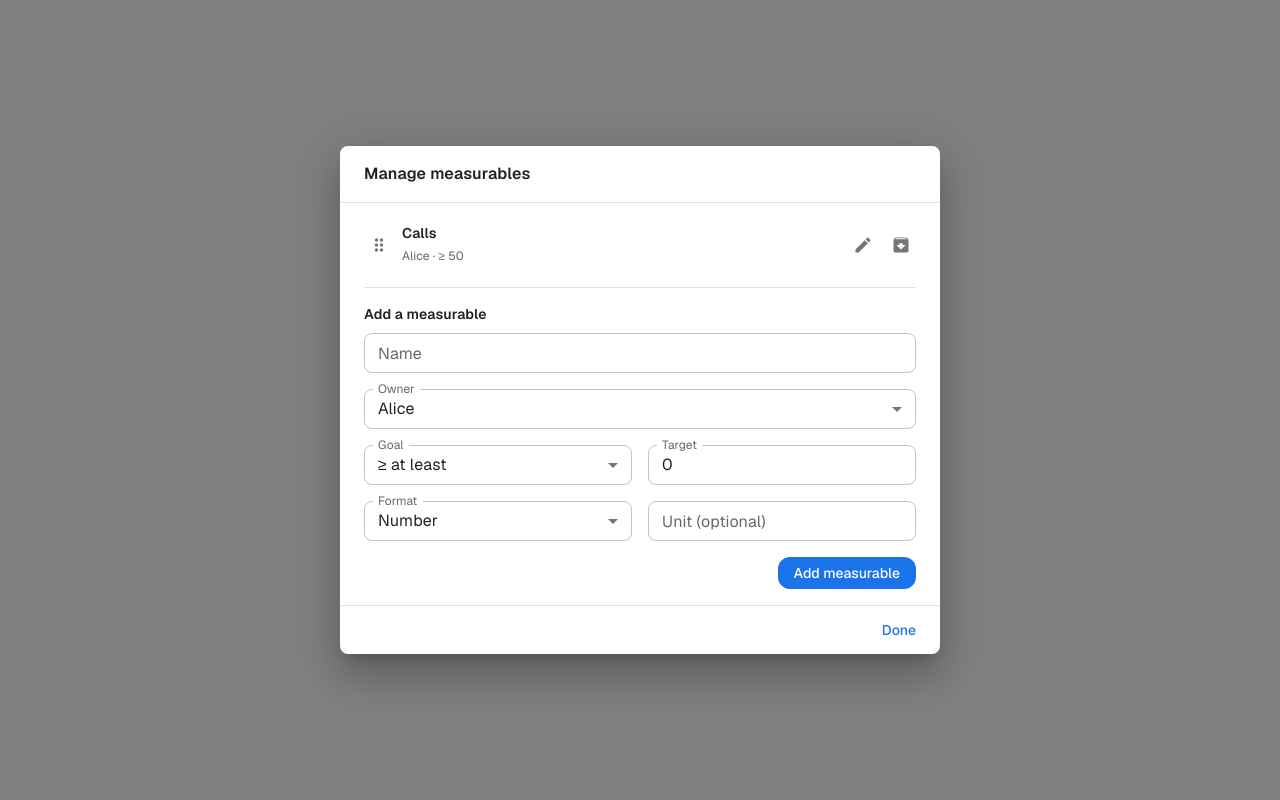
Scenario: ManageMeasurablesDialog › requires an upper bound when the goal is BETWEEN
Step 1. Type "Range" into the field labelled "Name" → [640, 352], box [364,332,916,372]
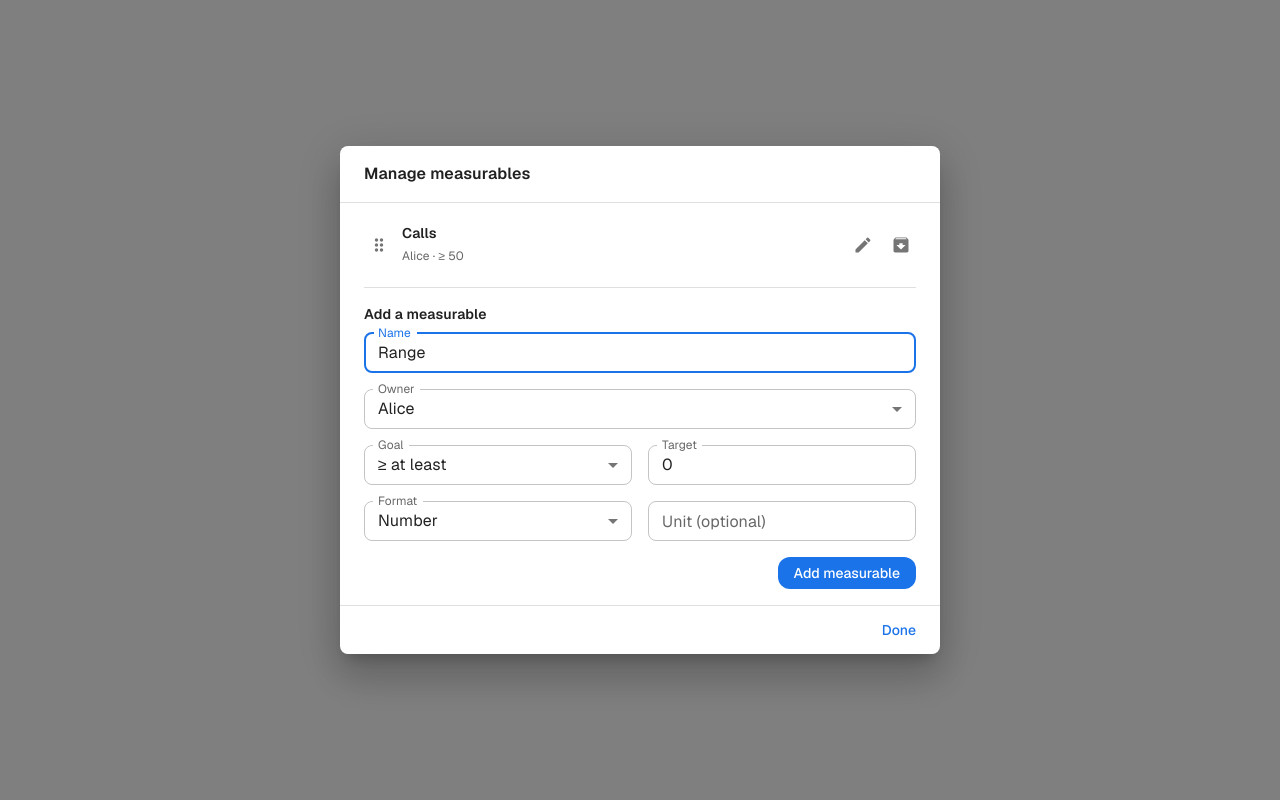
Step 2. Click the dropdown named "Goal" → [412, 464], box [378,454,447,475]
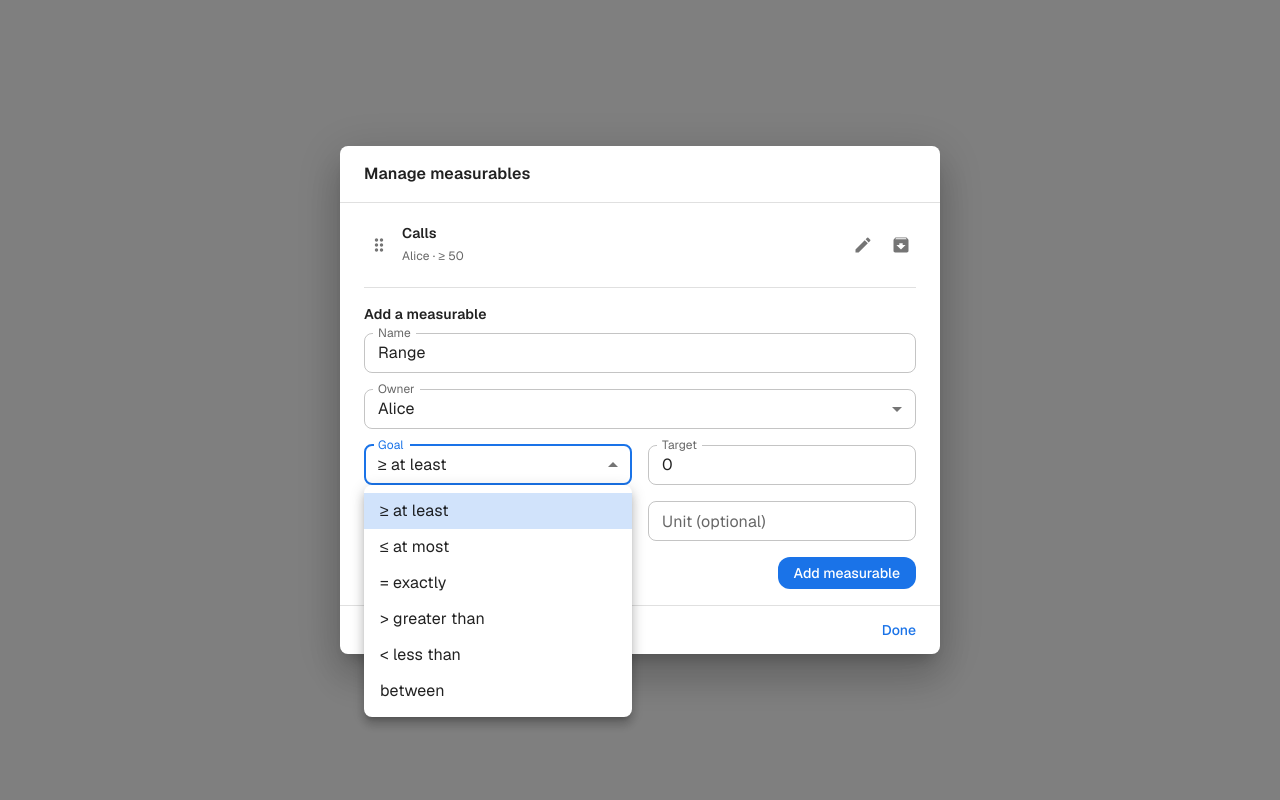
Step 3. Click the option "between" → [412, 690], box [380,680,445,701]
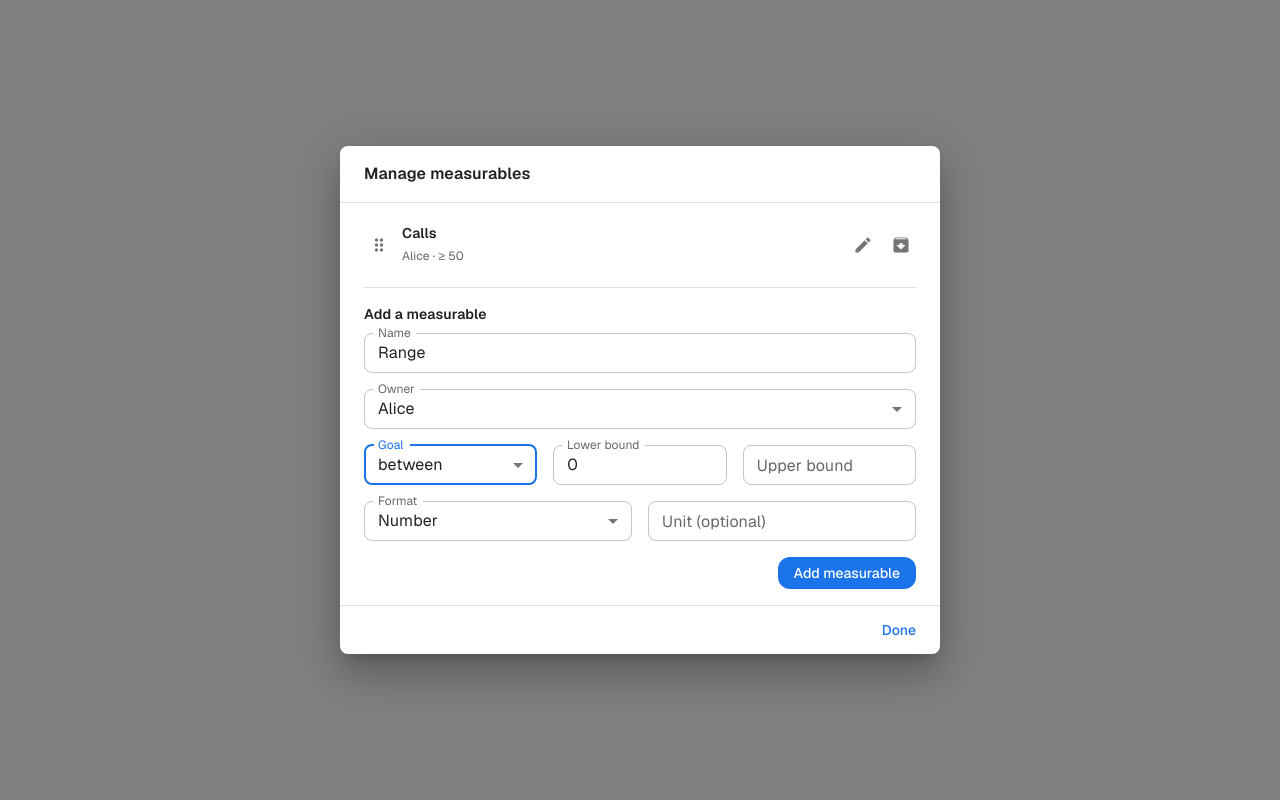
Result: the number field labelled "Upper bound" is shown at [743,444,916,484]
Step 4. Click the button "Add measurable" → [847, 572], box [778,556,916,588]
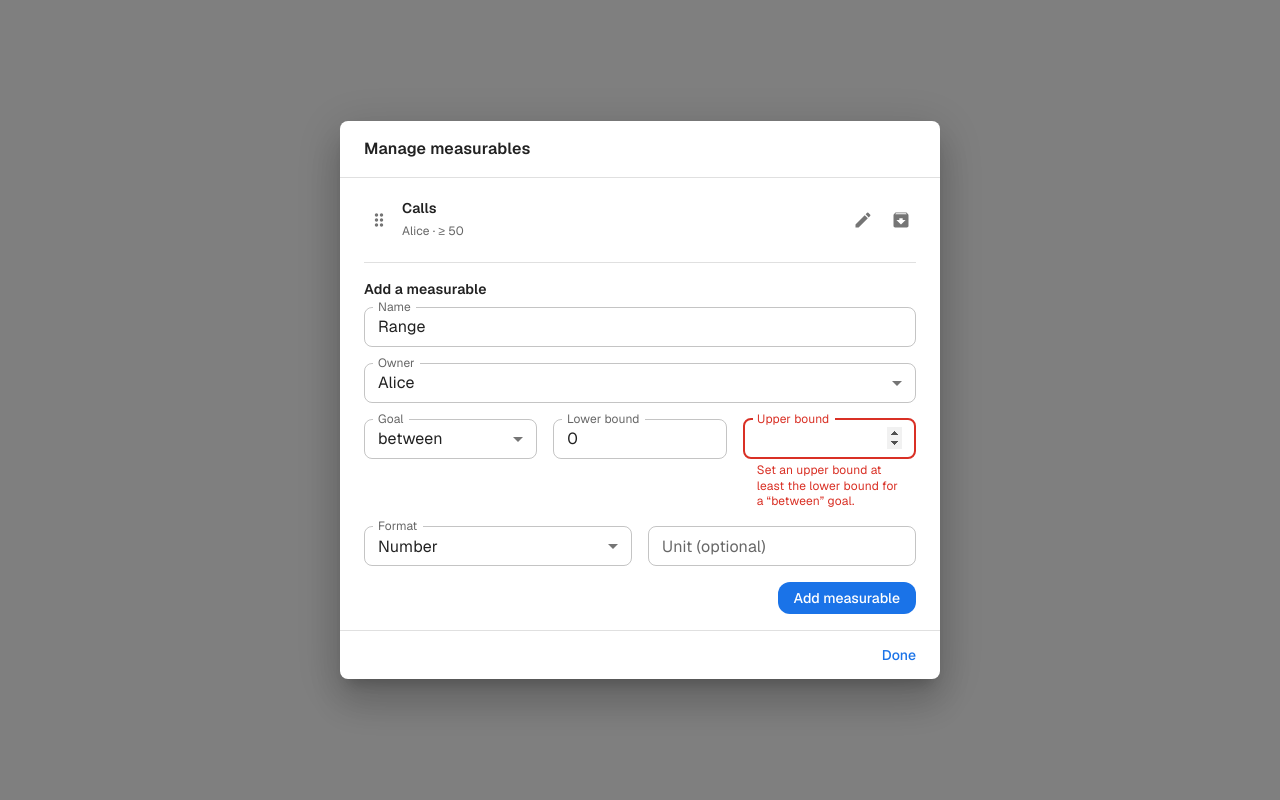
Result: the text "upper bound at least the lower bound" is shown at [757,462,898,510]
